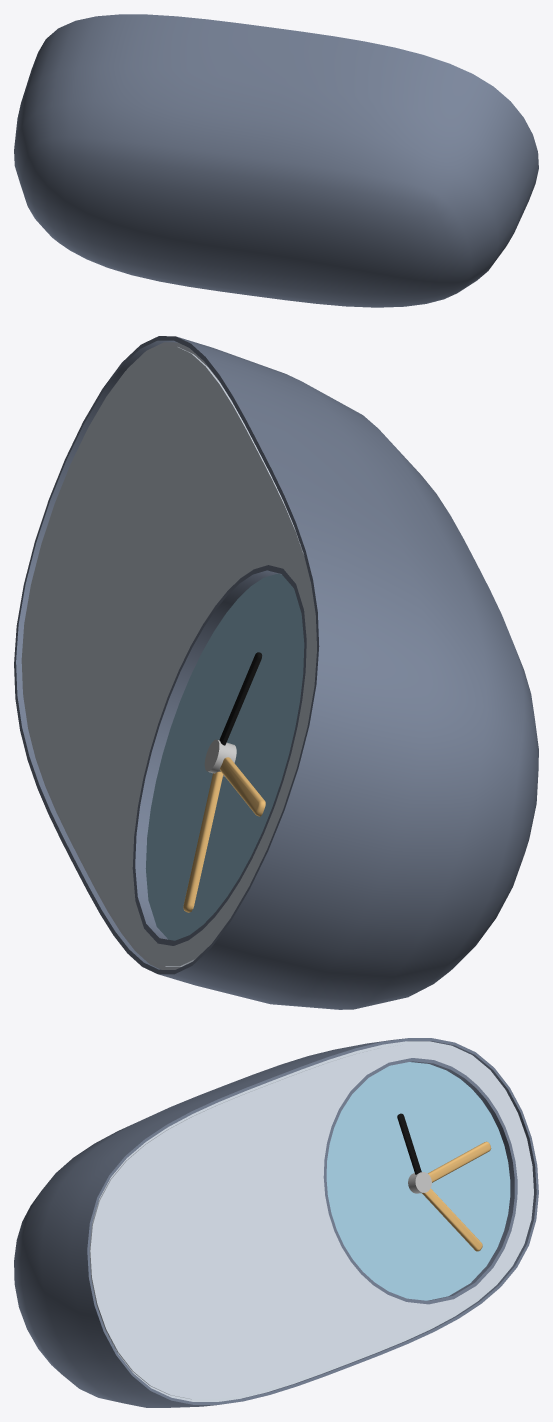
File: clock.fbx
3 renders of one model, top to bottom at view 1: azimuth 30°, elevation 25°; view 2: azimuth 150°, elevation 25°; view 3: azimuth 270°, elevation 25°, orthographic. The views are drawn at different scales.
Parts seen in each view (by area): view 1: Cube.006; view 2: Cube.006, Cube.005, Cube.004, Cube.007, Cube.009, Cube.008; view 3: Cube.005, Cube.004, Cube.006, Cube.007, Cube.009, Cube.008.
Boxes of the visible parts, <box> form: Cube.006: <box>14,14,538,307</box>; Cube.006: <box>14,336,538,1009</box>; Cube.005: <box>21,342,316,969</box>; Cube.004: <box>145,573,304,940</box>; Cube.007: <box>183,771,223,912</box>; Cube.009: <box>220,757,265,816</box>; Cube.008: <box>219,652,262,745</box>; Cube.005: <box>89,1041,533,1401</box>; Cube.004: <box>326,1062,510,1300</box>; Cube.006: <box>14,1038,538,1407</box>; Cube.007: <box>422,1188,482,1251</box>; Cube.009: <box>428,1141,491,1182</box>; Cube.008: <box>397,1113,421,1174</box>.
Bounding box in the file's own units: 17.3 × 10.89 × 18.11.
